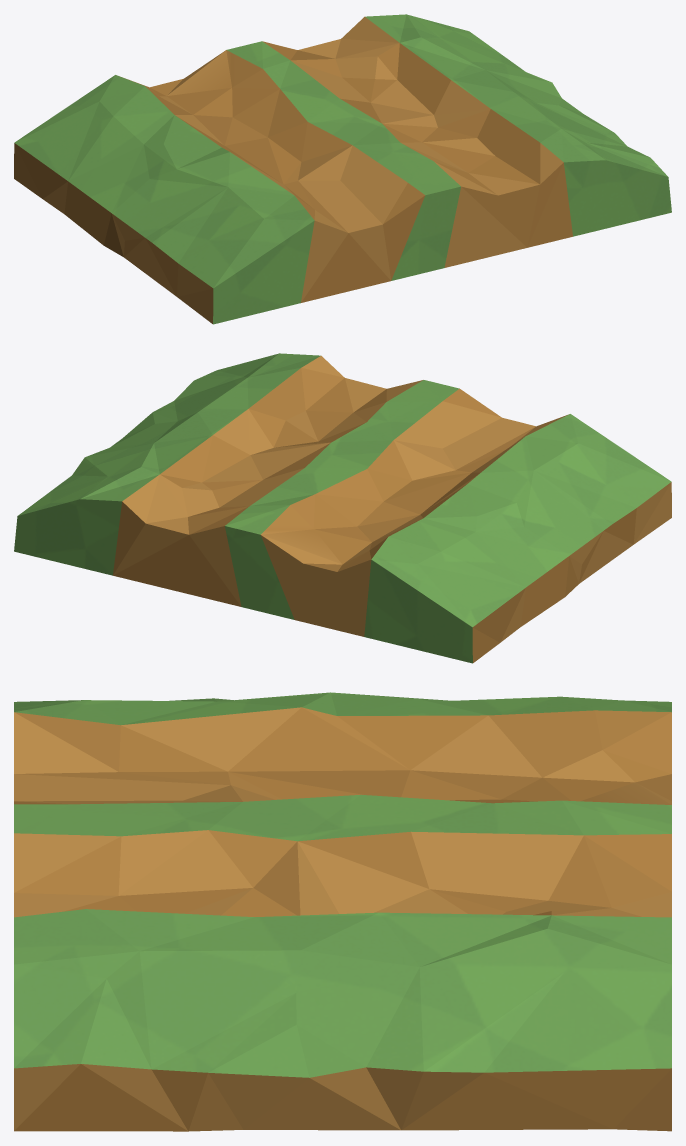
The model's file is Дорога2.fbx.
3 renders of one model, top to bottom at view 1: azimuth 30°, elevation 25°; view 2: azimuth 150°, elevation 25°; view 3: azimuth 270°, elevation 25°, orthographic. The views are drawn at different scales.
Visible parts, largest first — view 1: Дорога; view 2: Дорога; view 3: Дорога.
Part boxes in pixels (box(x1,y1,x2,y2)): Дорога: box(14, 14, 671, 324); Дорога: box(14, 353, 671, 663); Дорога: box(14, 692, 671, 1131).
Size of the model in its own units: 764 by 131 by 567.
